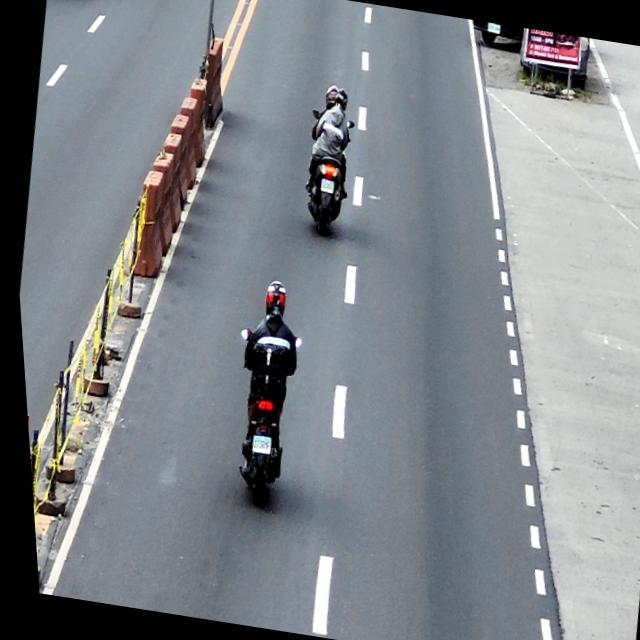License-Plate: (245, 435, 267, 456), (316, 178, 334, 195)
Motorcycle: (211, 324, 307, 510), (293, 107, 361, 239)
